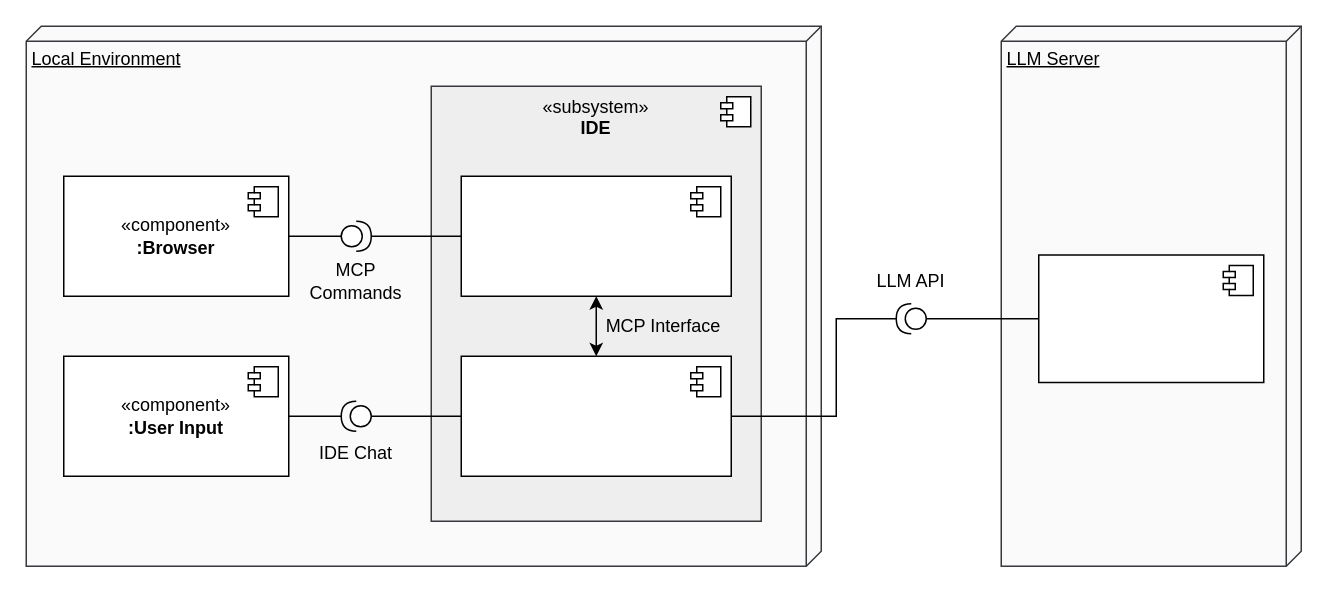
This 1328x593 diagram has some shape labels left out. Here are the shapes that lost their labels. From the top down, the centre of each, then its label:
At (x=595, y=235): "«component » :Playwright MCP Server".
At (x=1150, y=318): "«component » :LLM Model".
At (x=595, y=415): "«component » :LLM Agent".
